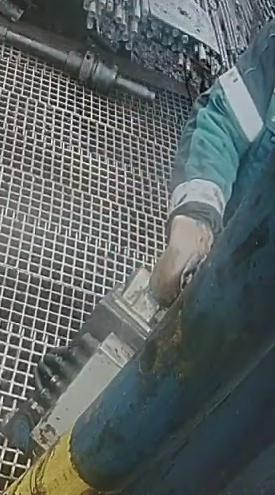gloves: (149, 205, 219, 309)
